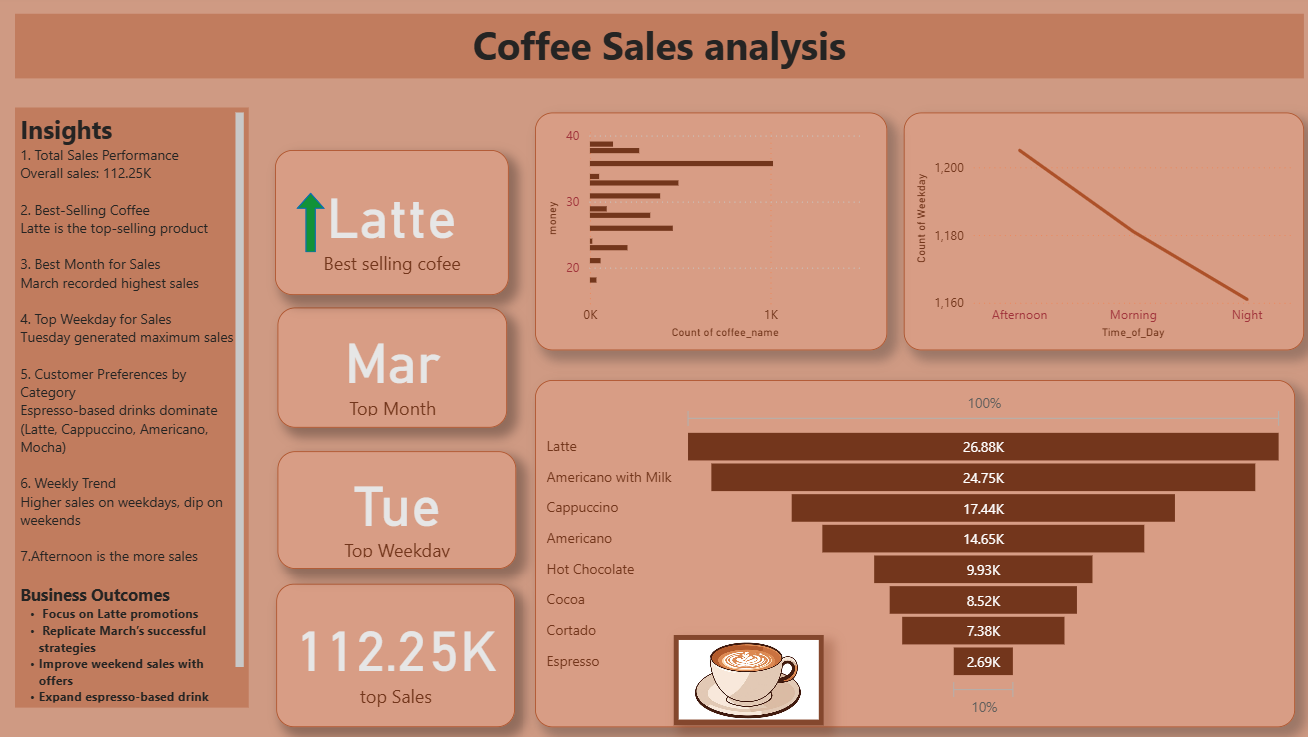

This screenshot's page, from the dashboard's own definition file:
{"tool":"powerbi","page":{"name":"Page 1","canvas":[1280,720],"ordinal":0},"visuals":[{"type":"card","fields":{"Values":["cofee_detaset.Total Sales"]},"box":[276.3,568.2,230.4,138.7],"z":0},{"type":"card","fields":{"Values":["cofee_detaset.Top Weekday"]},"box":[277.5,440.4,230.4,113.4],"z":1000},{"type":"funnel","title":"Top Sales by coffee_name","fields":{"Category":["cofee_detaset.coffee_name"],"Y":["cofee_detaset.top Sales"]},"box":[526,371.6,733.5,335.4],"z":2000},{"type":"card","fields":{"Values":["cofee_detaset.Month with Highest Sales"]},"box":[277.5,301.6,222,115.8],"z":3000},{"type":"image","box":[659.9,617.7,144.8,86.9],"z":4000},{"type":"lineChart","fields":{"Y":["CountNonNull(cofee_detaset.Weekday)"],"Category":["cofee_detaset.Time_of_Day"]},"box":[881.9,113.4,386.1,229.2],"z":5000},{"type":"card","fields":{"Values":["cofee_detaset.Best selling cofee"]},"box":[275.1,149.6,225.6,139.9],"z":6000},{"type":"shape","box":[295.6,190.6,27.7,57.9],"z":7000},{"type":"textbox","box":[24.1,108.6,225.6,579.1],"z":8000},{"type":"textbox","box":[24.1,18.1,1243.8,62.7],"z":9000},{"type":"barChart","fields":{"Category":["cofee_detaset.money"],"Y":["CountNonNull(cofee_detaset.coffee_name)"]},"box":[526,113.4,340.2,229.2],"z":10000}]}

Visuals, with their boxes in screenshot pixels (x1, y1, x2, y2), scaled from the page's 1280x720 canvas onto the 1308x737 screenshot:
card - cofee_detaset.Total Sales: 282, 582, 518, 724
card - cofee_detaset.Top Weekday: 284, 451, 519, 567
"Top Sales by coffee_name" funnel: 538, 380, 1287, 724
card - cofee_detaset.Month with Highest Sales: 284, 309, 510, 427
image: 674, 632, 822, 721
lineChart - CountNonNull(cofee_detaset.Weekday) x cofee_detaset.Time_of_Day: 901, 116, 1296, 351
card - cofee_detaset.Best selling cofee: 281, 153, 512, 296
shape: 302, 195, 330, 254
textbox: 25, 111, 255, 704
textbox: 25, 19, 1296, 83
barChart - cofee_detaset.money x CountNonNull(cofee_detaset.coffee_name): 538, 116, 885, 351
